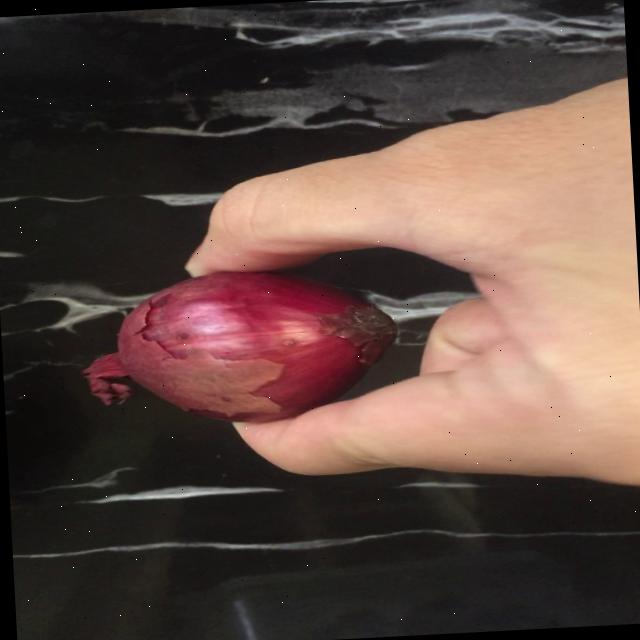Onion: (82, 272, 397, 422)
